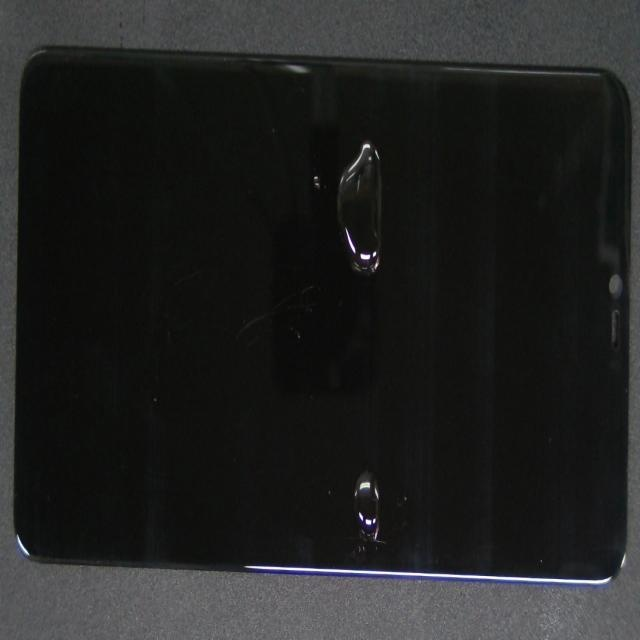oil: (192, 209, 539, 640), (176, 164, 568, 385)
